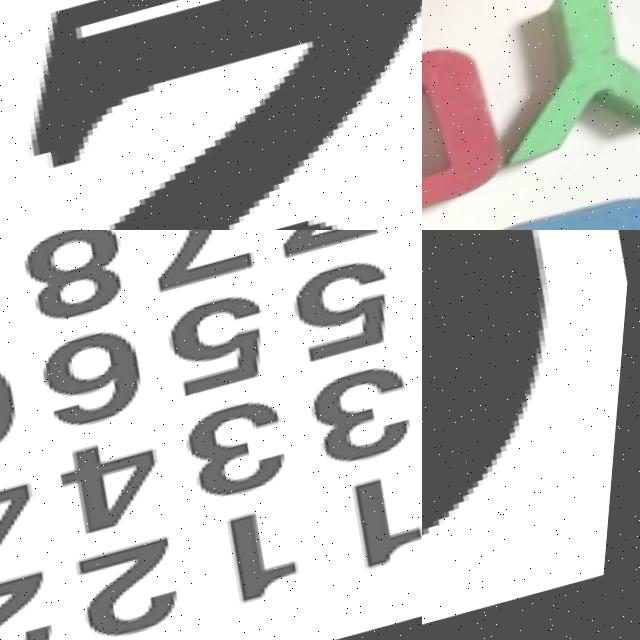1: (219, 506, 319, 611), (347, 469, 422, 576)
2: (0, 0, 422, 230), (70, 529, 208, 640), (0, 561, 75, 640)
3: (307, 359, 422, 476), (182, 396, 301, 506)
4: (53, 430, 183, 546), (0, 461, 62, 576)
5: (161, 284, 291, 406), (284, 251, 413, 372)
6: (30, 320, 164, 442), (0, 350, 40, 475)
7: (137, 230, 273, 300), (261, 230, 398, 270)
8: (15, 230, 141, 333)
O: (422, 230, 561, 543), (422, 35, 519, 230)
Y: (475, 0, 640, 168)
